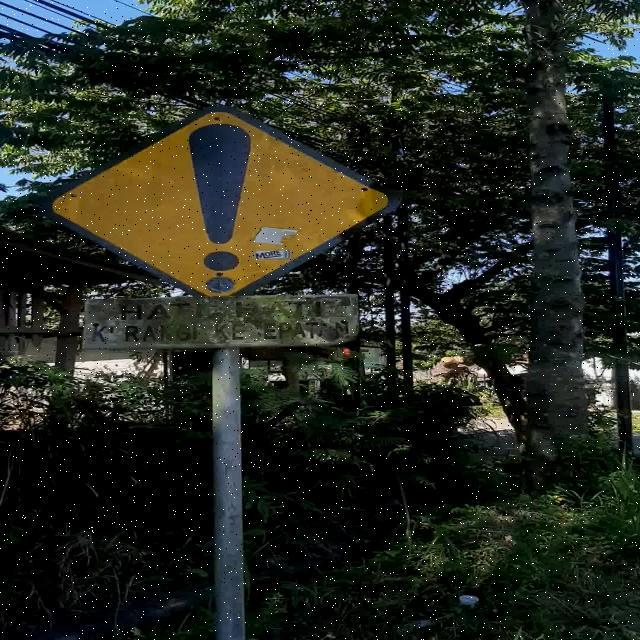Hati-Hati: (38, 104, 400, 297)
